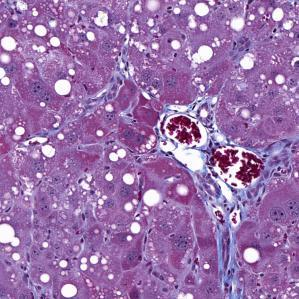fibrosis: (195, 180, 251, 287)
